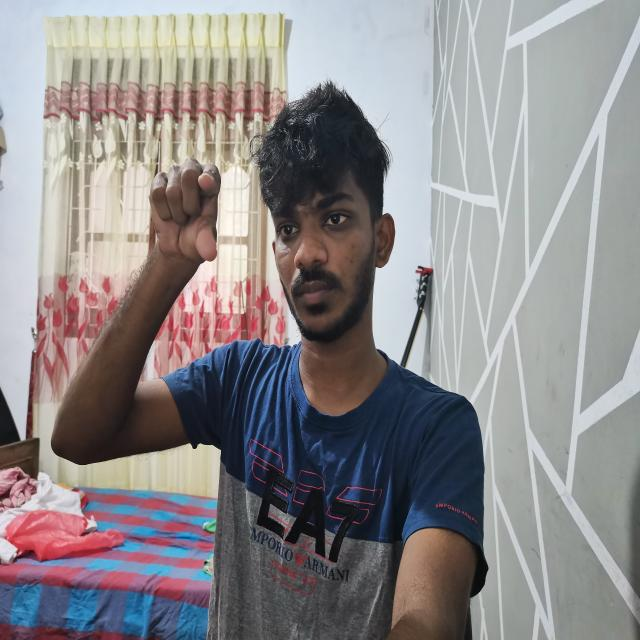No: (148, 150, 222, 276)
